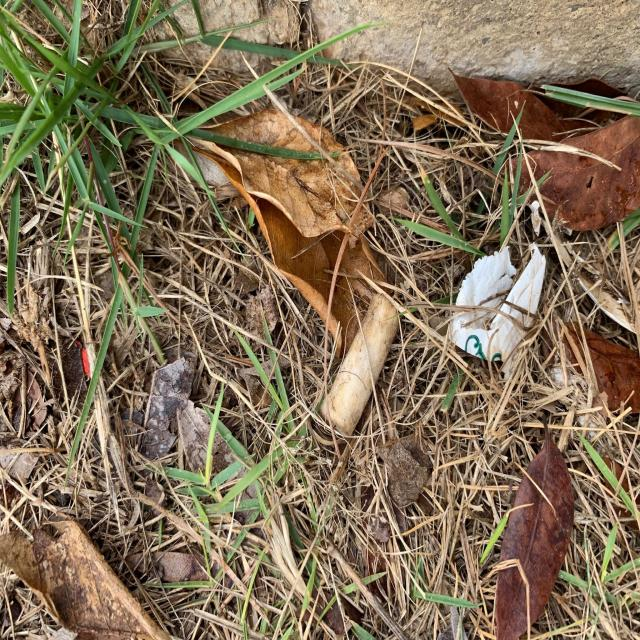litter: (449, 242, 546, 376)
